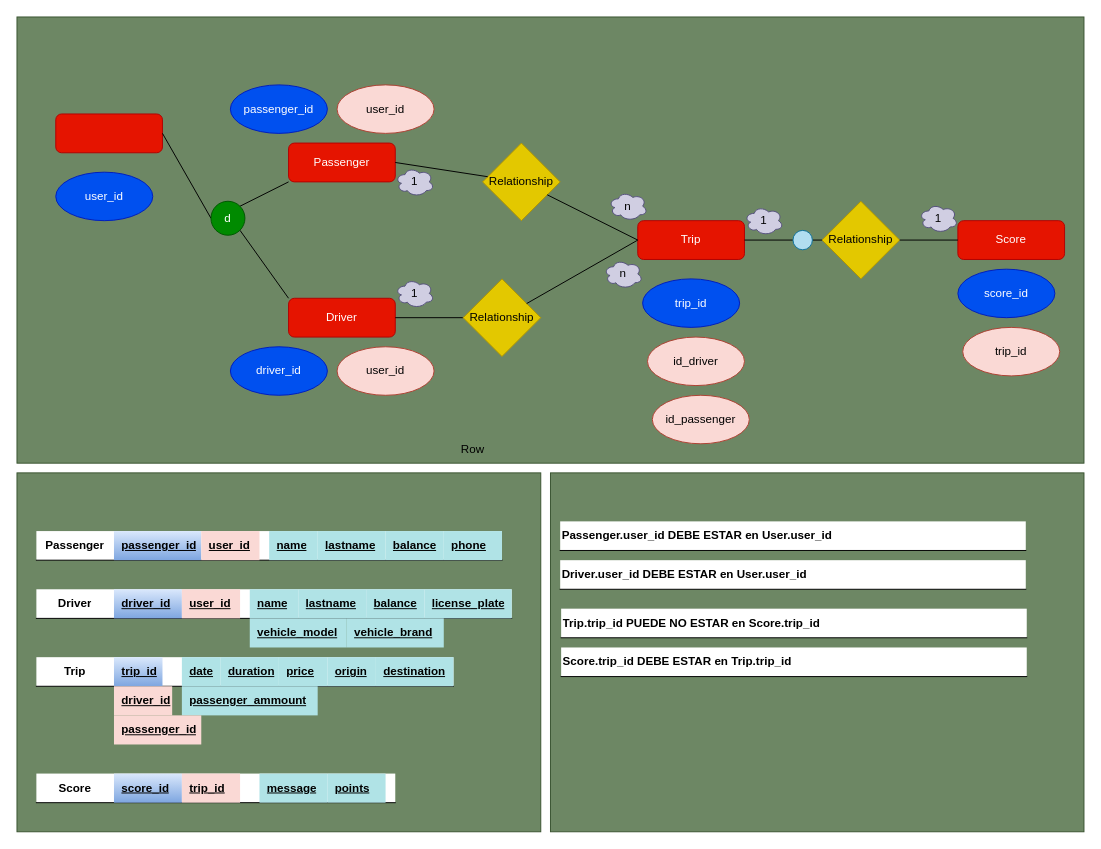
Some shapes in this 1101 by 849 pixel diagram are drawn without their labels. Here are the shapes that lost their labels. From the top down, the box of each, then its label:
(55, 113, 162, 153): User
(16, 16, 1084, 463): DER LOGICO
(16, 472, 541, 832): Modelo logico relacional
(550, 472, 1084, 832): Restricciones
